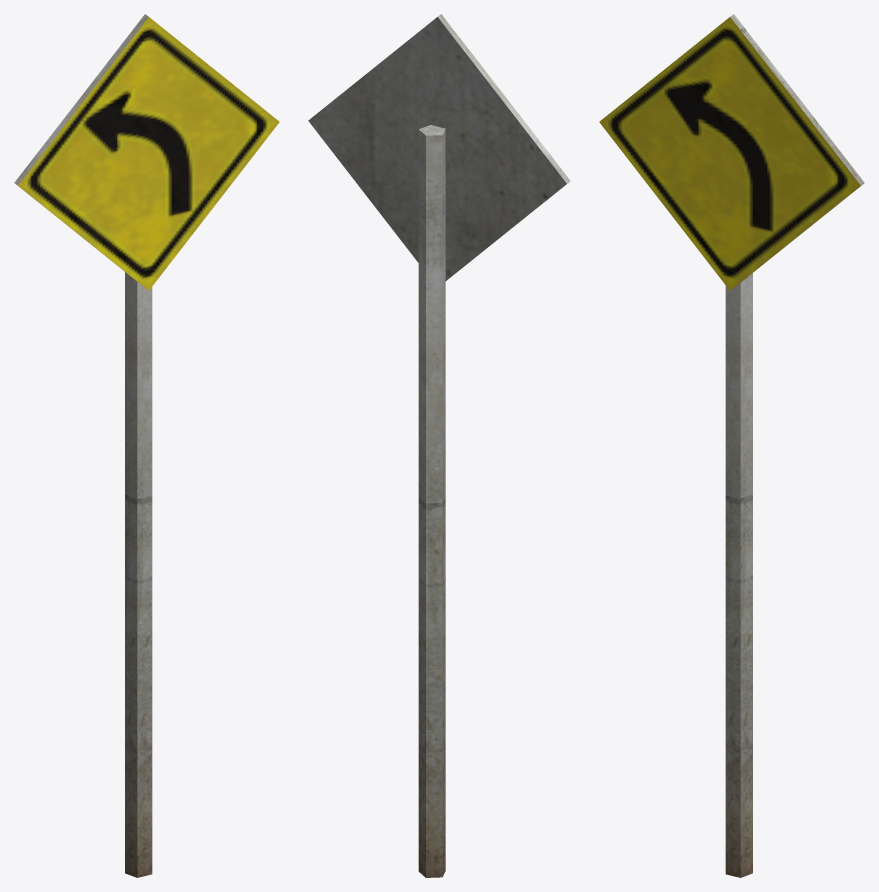
File: square_y_left2.fbx
3 renders of one model, left to right at view 1: azimuth 30°, elevation 25°; view 2: azimuth 150°, elevation 25°; view 3: azimuth 330°, elevation 25°, orthographic.
Parts seen in each view (by area): view 1: Cylinder.003; view 2: Cylinder.003; view 3: Cylinder.003.
Part boxes in pixels (x1,y1,x2,y2): Cylinder.003: (14, 14, 279, 877); Cylinder.003: (308, 14, 570, 877); Cylinder.003: (599, 14, 864, 877).
Bounding box in the file's own units: 156 × 492 × 16.81.
